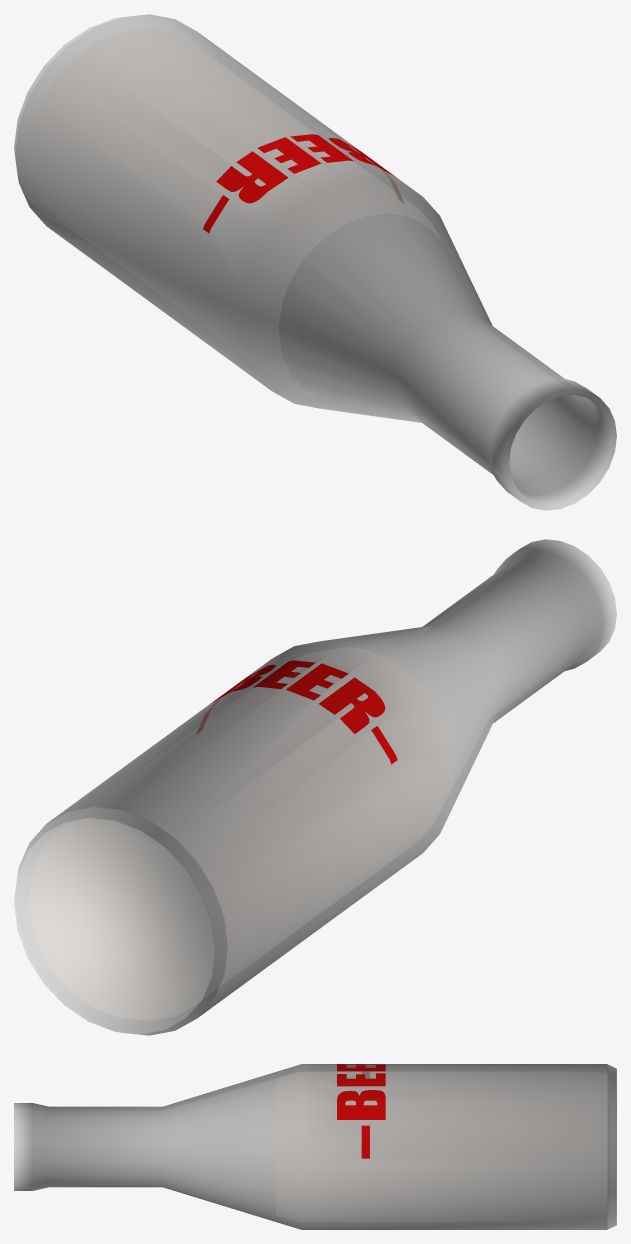
Rendered from model_align.obj.
3 renders of one model, top to bottom at view 1: azimuth 30°, elevation 25°; view 2: azimuth 150°, elevation 25°; view 3: azimuth 270°, elevation 25°, orthographic. The views are drawn at different scales.
Visible parts, largest first — view 1: mesh1_mesh1-geometry; view 2: mesh1_mesh1-geometry; view 3: mesh1_mesh1-geometry.
Part boxes in pixels (<box>): mesh1_mesh1-geometry: <box>14,14,616,510</box>; mesh1_mesh1-geometry: <box>14,539,616,1035</box>; mesh1_mesh1-geometry: <box>14,1064,616,1229</box>.
Bounding box in the file's own units: 0.0758 × 0.0758 × 0.2745.
